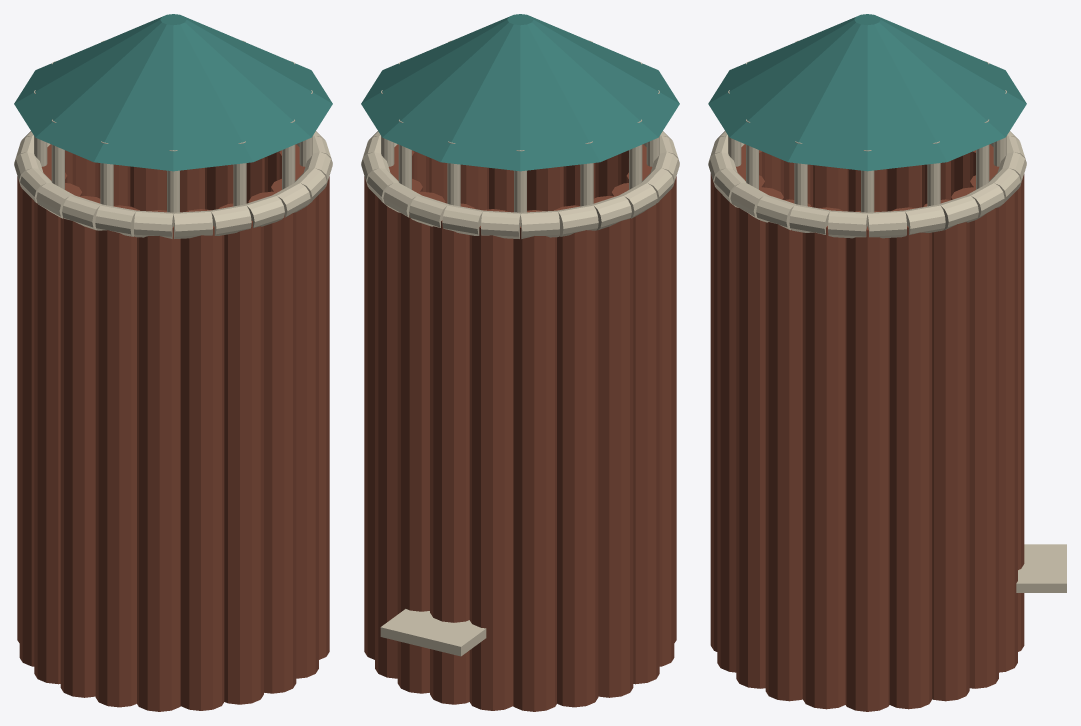
Rendered from volunteer-waterworks.glb.
3 views of the same model, side by side, from view 1: azimuth 30°, elevation 25°; view 2: azimuth 150°, elevation 25°; view 3: azimuth 270°, elevation 25° (orthographic).
Parts seen in each view (by area): view 1: volunteer-waterworks; view 2: volunteer-waterworks; view 3: volunteer-waterworks.
Boxes of the visible parts, left/top/right/bottom form: volunteer-waterworks: left=14, top=14, right=332, bottom=711; volunteer-waterworks: left=361, top=14, right=679, bottom=711; volunteer-waterworks: left=708, top=14, right=1066, bottom=711.
Size of the model in its own units: 12 by 26 by 13.5.
